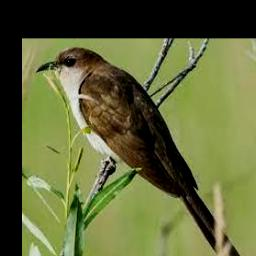Cuckoo: (36, 47, 248, 256)
